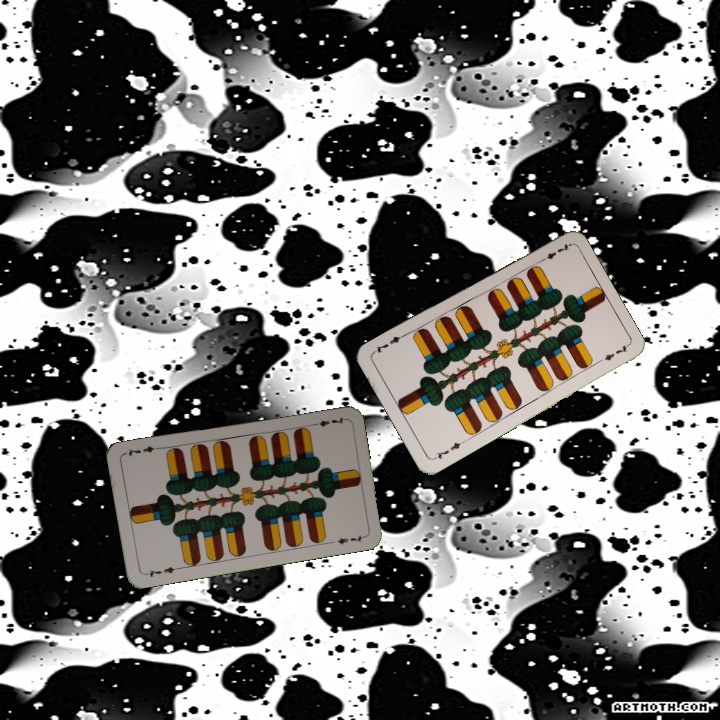E7: (534, 240, 572, 266), (430, 436, 467, 462), (141, 563, 181, 580), (307, 413, 347, 429)
